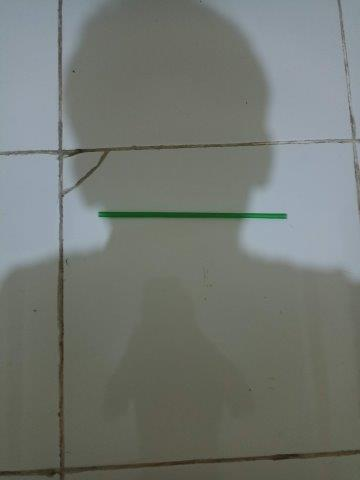sedotan: (98, 211, 287, 219)
